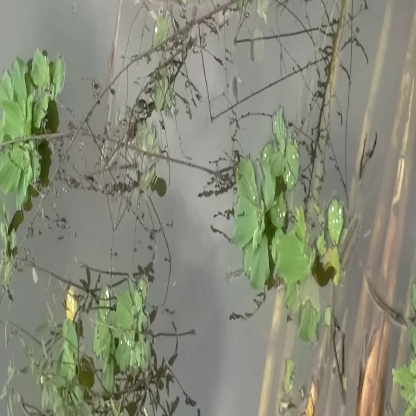grass: (220, 126, 347, 295)
